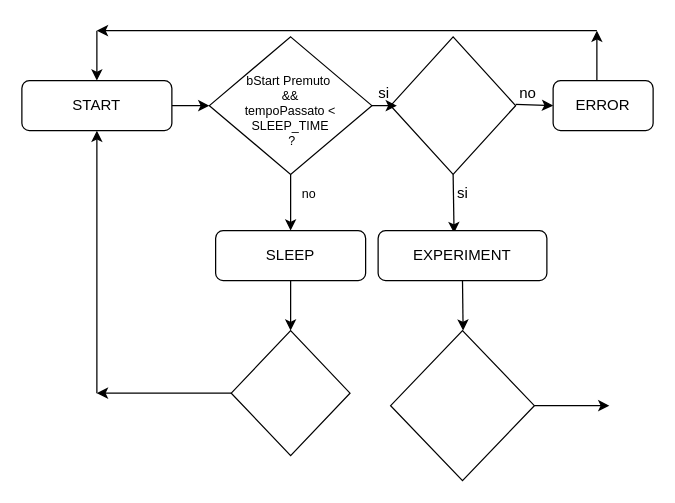
Image size: 675x503. Some labels were removed from this diagram. The shapes that lost their labels are listed below. From the top down, each one's box as (x1, y1, x2, y2) in pixels, then its label:
(389, 36, 516, 174): Oggetto rilevato ?
(230, 329, 350, 456): pirInterrupt
(389, 329, 534, 481): bStop Premuto && tempoPassato < MAX_TIME ?
